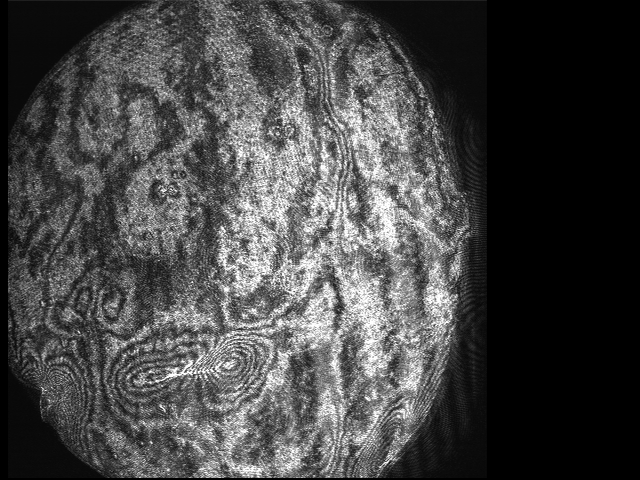plume: (111, 335, 279, 403)
